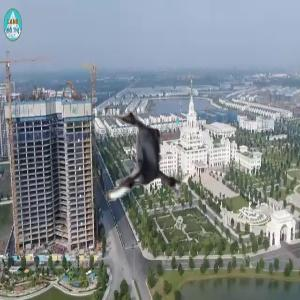drone: (78, 97, 200, 219)
